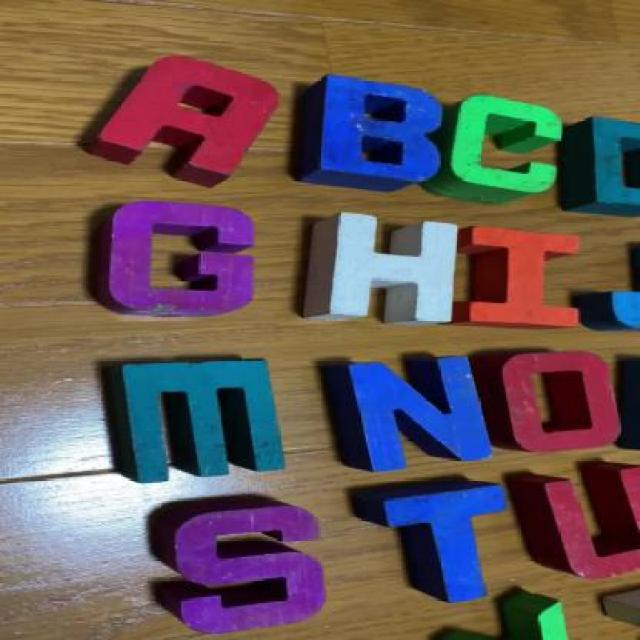A: (98, 58, 276, 177)
B: (298, 76, 448, 181)
C: (442, 94, 566, 198)
G: (94, 204, 249, 316)
H: (304, 212, 458, 332)
I: (450, 231, 582, 334)
M: (113, 364, 279, 481)
N: (338, 360, 478, 474)
O: (493, 352, 618, 452)
S: (160, 505, 332, 630)
T: (350, 482, 505, 603)
